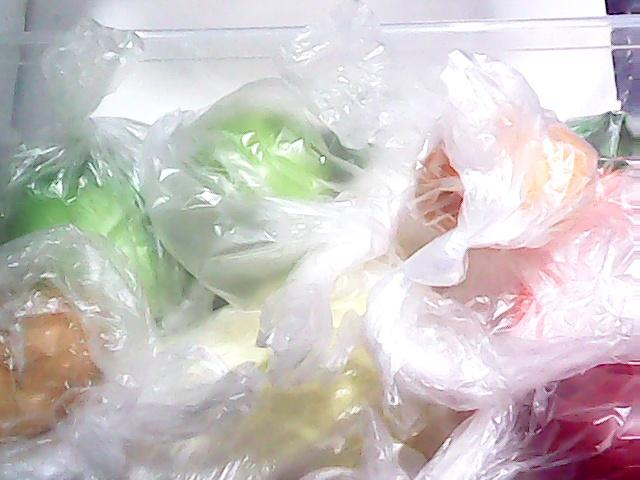apple: (150, 103, 330, 269), (498, 344, 640, 480)
cabbage: (6, 126, 202, 334)
carrot: (503, 110, 640, 340)
napa cabbage: (62, 220, 458, 480)
potato: (0, 289, 112, 442)
radish: (322, 88, 426, 236)
